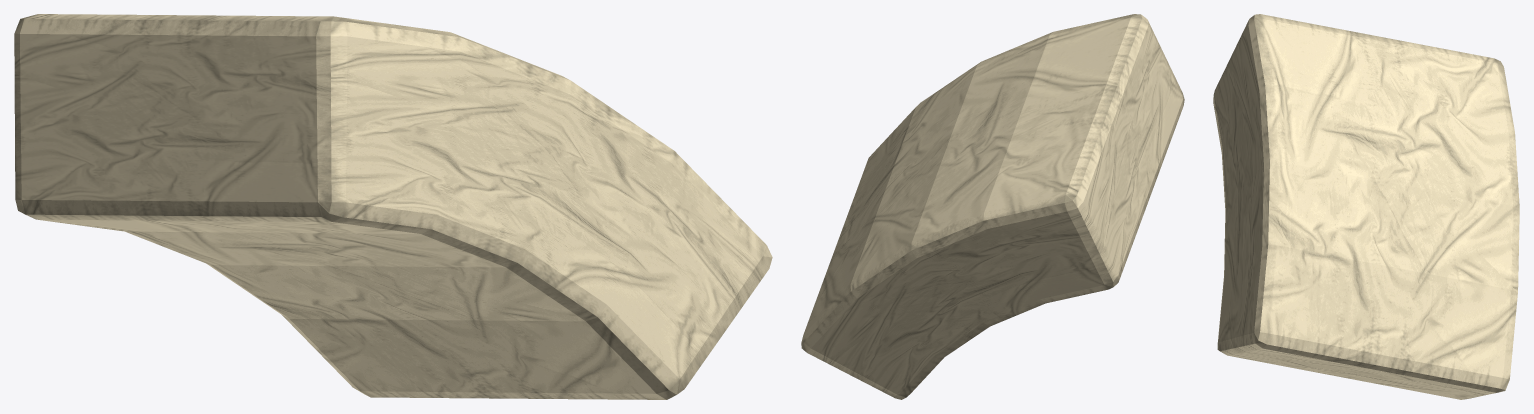
Rendered from ISS_INT_props_Square_Bag_Curved.FBX.
The picture shows the model from 3 angles, left to right: view 1: azimuth 30°, elevation 25°; view 2: azimuth 150°, elevation 25°; view 3: azimuth 270°, elevation 25°; orthographic projection. The views are drawn at different scales.
Visible parts, largest first — view 1: Object001; view 2: Object001; view 3: Object001.
Part boxes in pixels (x1,y1,x2,y2): Object001: (14, 14, 772, 399); Object001: (801, 14, 1184, 399); Object001: (1213, 14, 1519, 399).
Bounding box in the file's own units: 0.0679 × 0.0624 × 0.0536.
